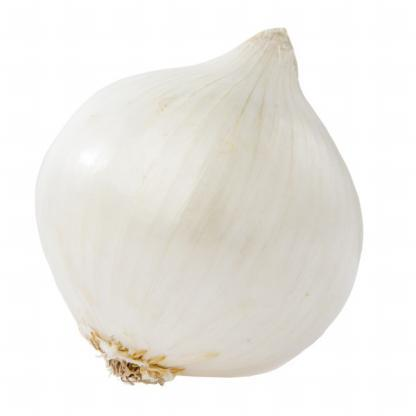onion: (32, 17, 380, 382)
